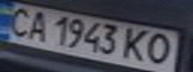1: (45, 14, 72, 47)
3: (100, 23, 124, 57)
4: (81, 20, 103, 54)
9: (63, 16, 87, 51)
A: (21, 8, 54, 43)
C: (0, 4, 36, 38)
K: (121, 26, 154, 62)
O: (142, 32, 178, 68)
